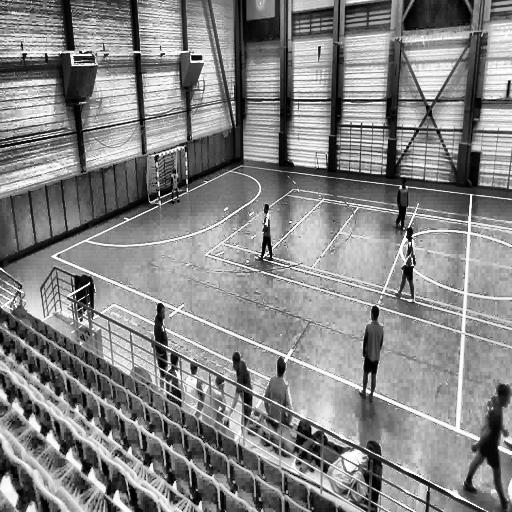player: (462, 384, 512, 508), (263, 354, 295, 433), (359, 302, 383, 406), (229, 348, 253, 423), (394, 225, 417, 303), (152, 301, 170, 383), (392, 172, 410, 234), (258, 203, 275, 262), (170, 167, 181, 207)
